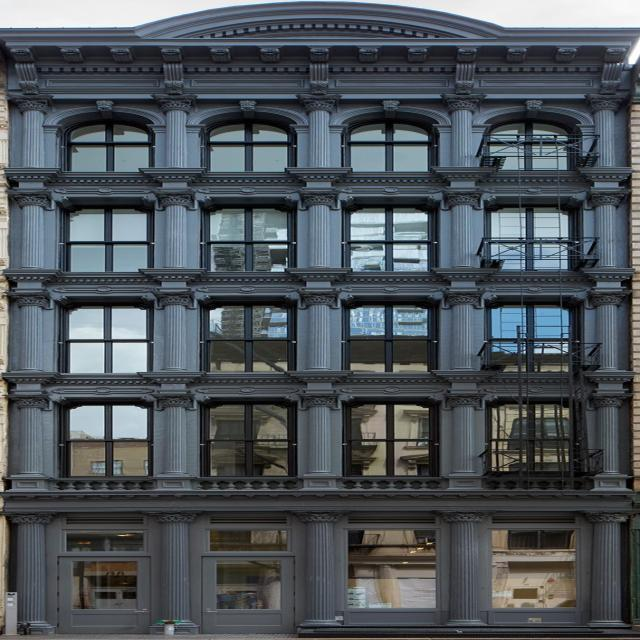door: (199, 557, 296, 635), (57, 557, 146, 635)
window: (490, 525, 582, 626), (346, 527, 439, 625), (486, 400, 577, 476), (202, 402, 295, 476), (60, 403, 151, 477), (343, 402, 434, 474), (481, 302, 571, 373), (55, 305, 146, 373), (197, 304, 287, 371), (338, 304, 425, 373), (485, 204, 574, 270), (58, 208, 149, 272), (200, 206, 288, 271), (341, 207, 429, 270), (61, 121, 153, 171), (203, 121, 295, 171), (344, 121, 436, 171), (488, 119, 572, 169), (56, 529, 139, 552), (212, 530, 288, 551)
